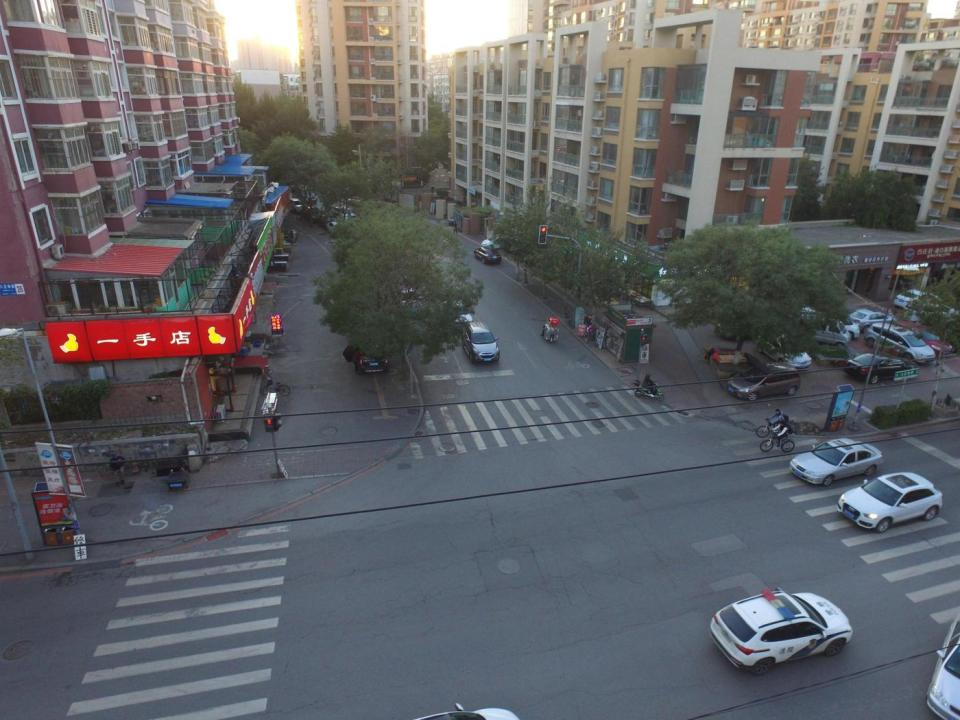car: (704, 579, 857, 674), (836, 469, 944, 533), (789, 434, 883, 487), (727, 362, 801, 401), (715, 308, 799, 341), (846, 352, 918, 386), (342, 330, 391, 378), (895, 316, 953, 356), (757, 332, 811, 373), (801, 306, 860, 339), (904, 302, 960, 327), (846, 308, 898, 334), (893, 289, 945, 313), (440, 298, 477, 331), (395, 284, 428, 321), (481, 233, 522, 252), (446, 210, 482, 227), (298, 204, 324, 225), (327, 204, 356, 222), (474, 245, 501, 264), (326, 221, 352, 239), (316, 214, 342, 231), (346, 194, 373, 209), (282, 196, 305, 212)
van: (862, 320, 935, 363), (795, 309, 851, 347), (461, 320, 501, 364), (287, 182, 319, 205)
